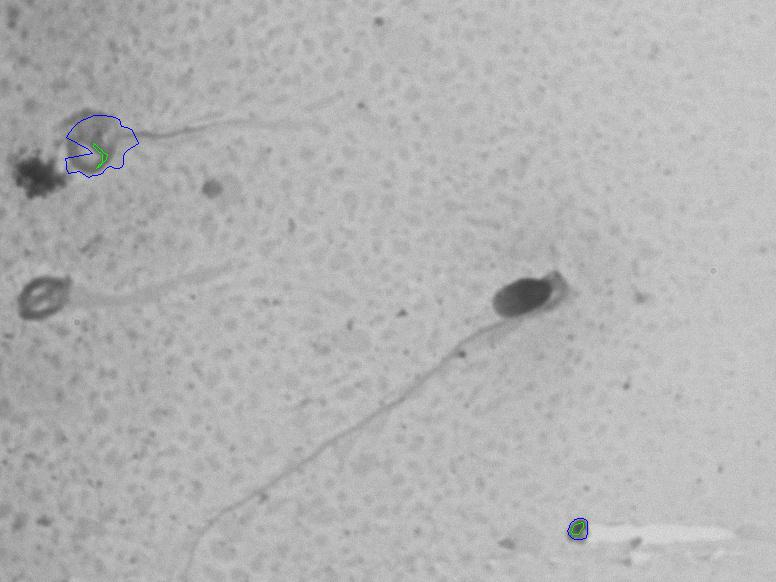Abnormal: (240, 237, 582, 529)
